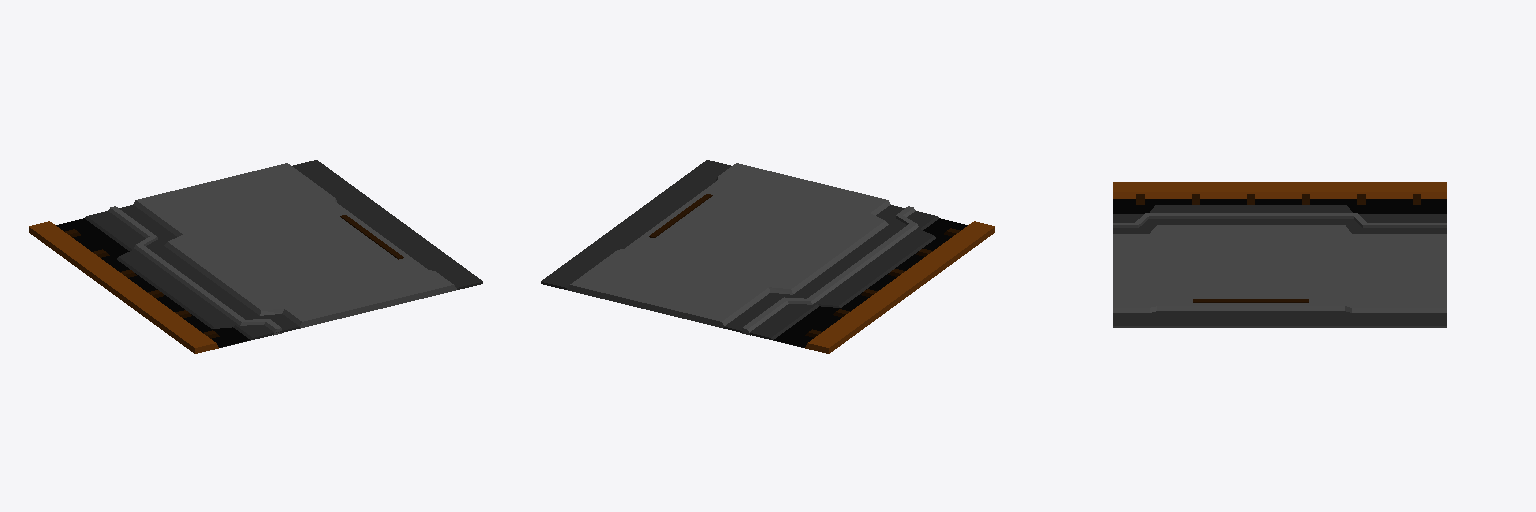
File: FloorTile_Side.obj
The picture shows the model from 3 angles: view 1: azimuth 30°, elevation 25°; view 2: azimuth 150°, elevation 25°; view 3: azimuth 270°, elevation 25°; orthographic projection.
Parts seen in each view (by area): view 1: FloorTile_Side_Plane.046; view 2: FloorTile_Side_Plane.046; view 3: FloorTile_Side_Plane.046.
Boxes of the visible parts, x1=… form: FloorTile_Side_Plane.046: x1=29, y1=160, x2=482, y2=353; FloorTile_Side_Plane.046: x1=541, y1=160, x2=994, y2=353; FloorTile_Side_Plane.046: x1=1113, y1=182, x2=1446, y2=327.
Size of the model in its own units: 2 by 0.0685 by 2.